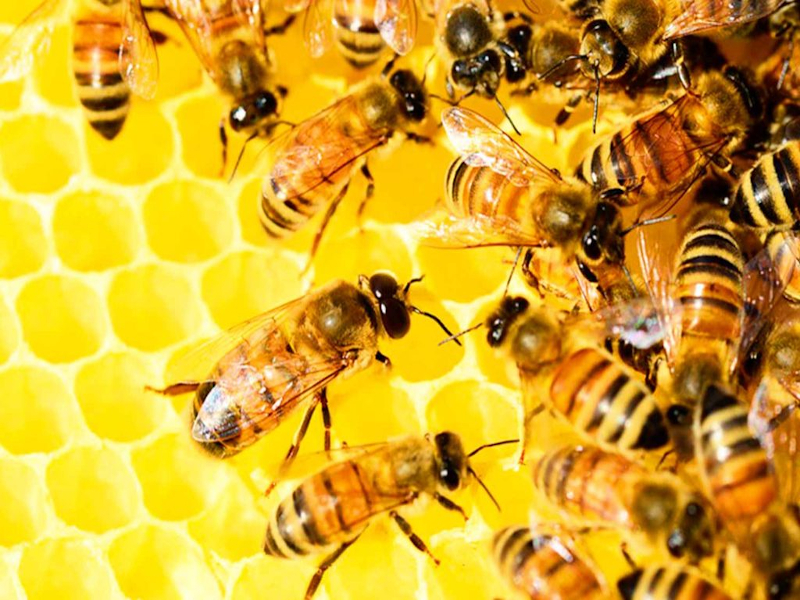abeja: (178, 245, 445, 479), (242, 410, 520, 600), (409, 110, 673, 285), (240, 44, 451, 251), (462, 270, 668, 454), (519, 440, 741, 582)
